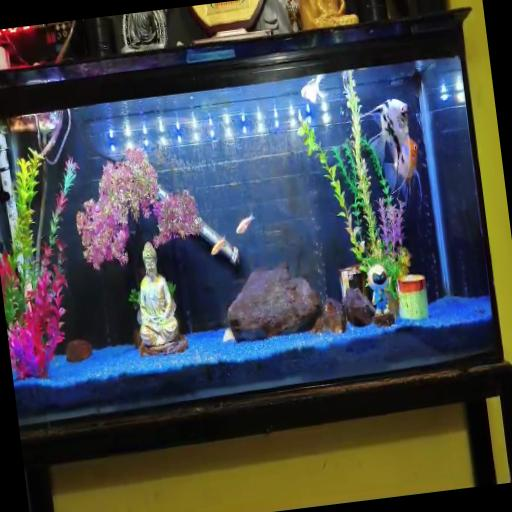Fish: (361, 99, 408, 166), (383, 138, 421, 205), (300, 75, 323, 103), (236, 214, 253, 234), (210, 237, 224, 255), (222, 329, 234, 342)
